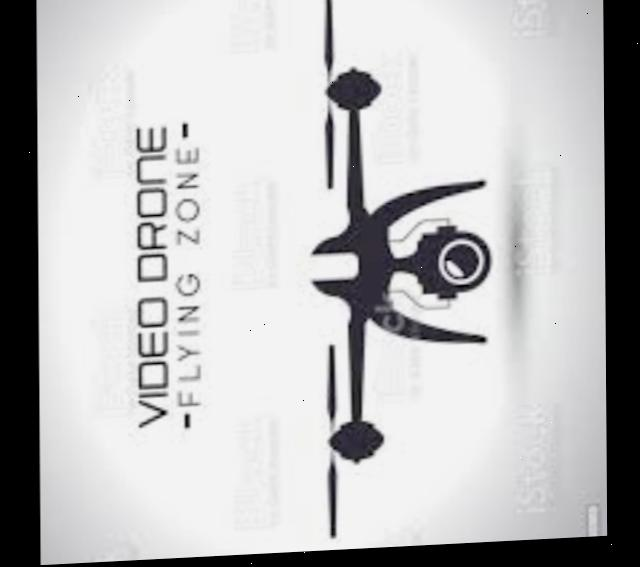drone: (263, 0, 503, 556)
